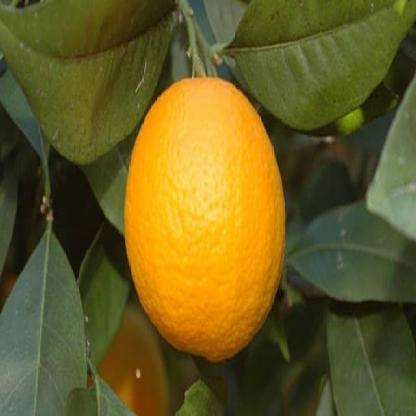orange: (126, 75, 284, 350)
